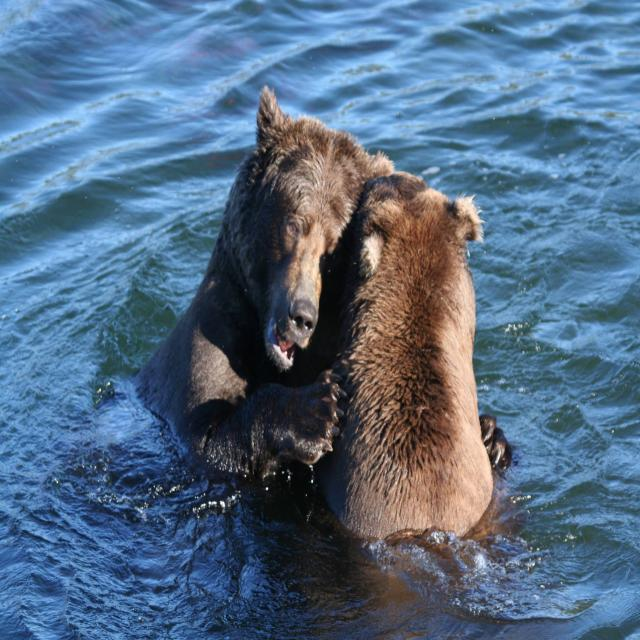bear face: (162, 83, 390, 458), (348, 176, 491, 528)
